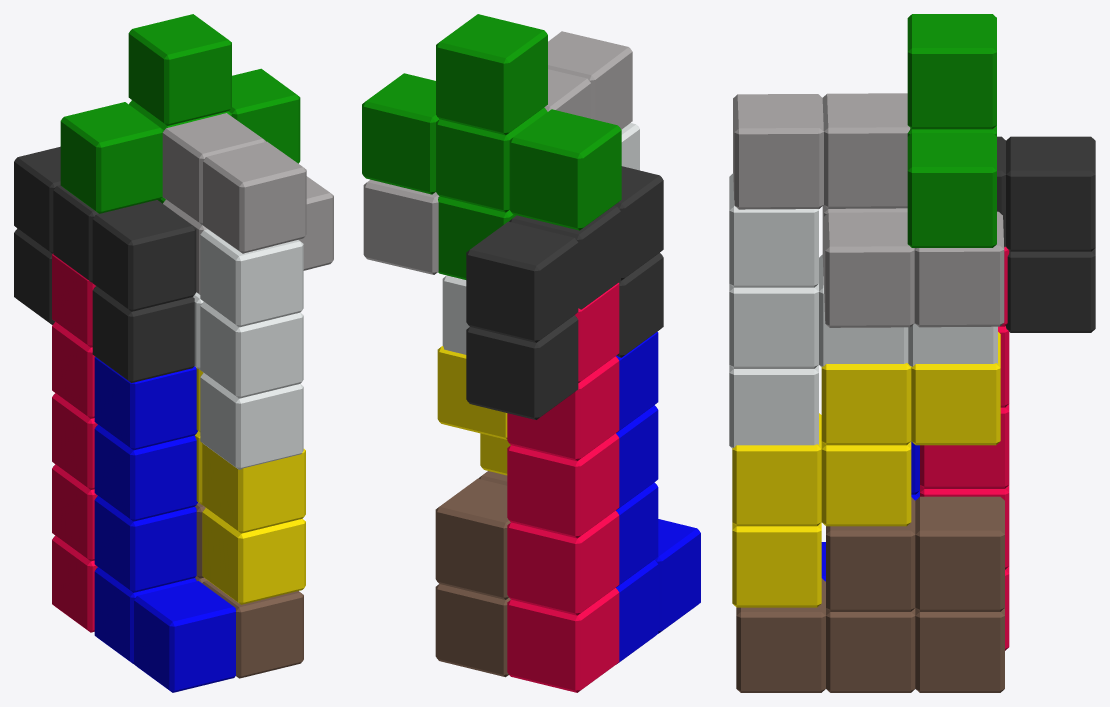
The model's file is Figur10.glb.
The picture shows the model from 3 angles, left to right: view 1: azimuth 30°, elevation 25°; view 2: azimuth 150°, elevation 25°; view 3: azimuth 270°, elevation 25°; orthographic projection. The views are drawn at different scales.
Visible parts, largest first — view 1: Cube.032, Cube.020, Cube.028, Cube.027, Cube.038, Cube.045, Cube.043, Cube.053, Cube.046, Cube.030, Cube.039, Cube.036 (+18 smaller); view 2: Cube.034, Cube.027, Cube.028, Cube.003, Cube.004, Cube.005, Cube.033, Cube.024, Cube.011, Cube.001, Cube.021, Cube.029 (+17 smaller); view 3: Cube.020, Cube.028, Cube.034, Cube.011, Cube.024, Cube.023, Cube.019, Cube.008, Cube.009, Cube.052, Cube.049, Cube.051 (+15 smaller).
Part boxes in pixels (box(x1,y1,x2,y2)): Cube.032: box(92, 200, 196, 311); Cube.020: box(203, 141, 306, 253); Cube.028: box(128, 14, 231, 125); Cube.027: box(60, 102, 163, 213); Cube.038: box(134, 581, 235, 692); Cube.045: box(200, 229, 303, 327); Cube.043: box(200, 302, 303, 398); Cube.053: box(202, 508, 305, 604); Cube.046: box(200, 373, 303, 469); Cube.030: box(92, 286, 194, 382); Cube.039: box(94, 425, 197, 521); Cube.036: box(94, 496, 196, 592); Cube.034: box(466, 221, 578, 342); Cube.027: box(509, 109, 621, 230); Cube.028: box(436, 14, 547, 135); Cube.003: box(507, 510, 619, 615); Cube.004: box(507, 433, 619, 538); Cube.005: box(507, 588, 619, 692); Cube.033: box(466, 315, 578, 419); Cube.024: box(362, 73, 439, 194); Cube.011: box(435, 478, 510, 599); Cube.001: box(507, 356, 619, 461); Cube.021: box(363, 179, 439, 274); Cube.029: box(436, 107, 547, 212); Cube.020: box(733, 94, 823, 209); Cube.028: box(907, 14, 996, 129); Cube.034: box(1006, 136, 1095, 251); Cube.011: box(915, 496, 1004, 611); Cube.024: box(907, 133, 996, 247); Cube.023: box(824, 212, 914, 327); Cube.019: box(822, 93, 910, 208); Cube.008: box(736, 578, 825, 692); Cube.009: box(826, 497, 915, 611); Cube.052: box(821, 441, 911, 526); Cube.049: box(732, 413, 821, 526); Cube.051: box(911, 332, 1000, 445).
Size of the model in its own units: 6.09 by 15.94 by 8.18.
